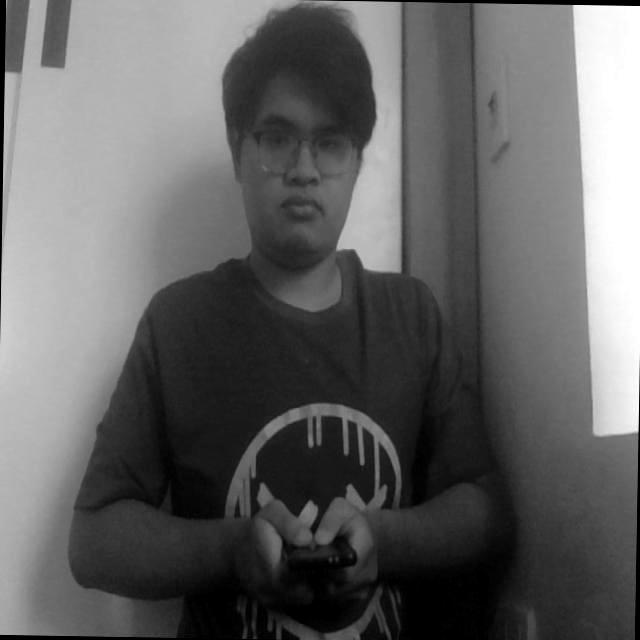phone: (264, 496, 364, 594)
